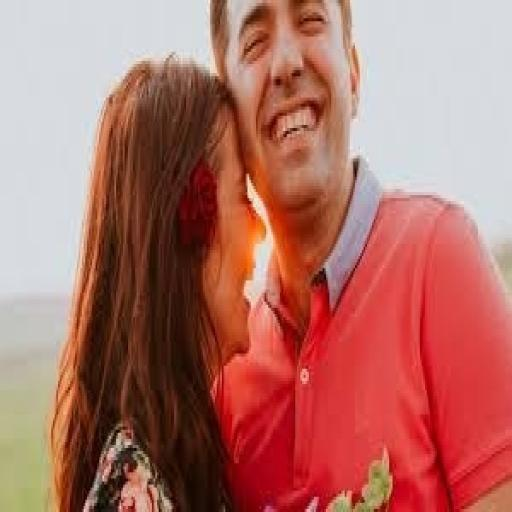laughing: (43, 0, 507, 506)
